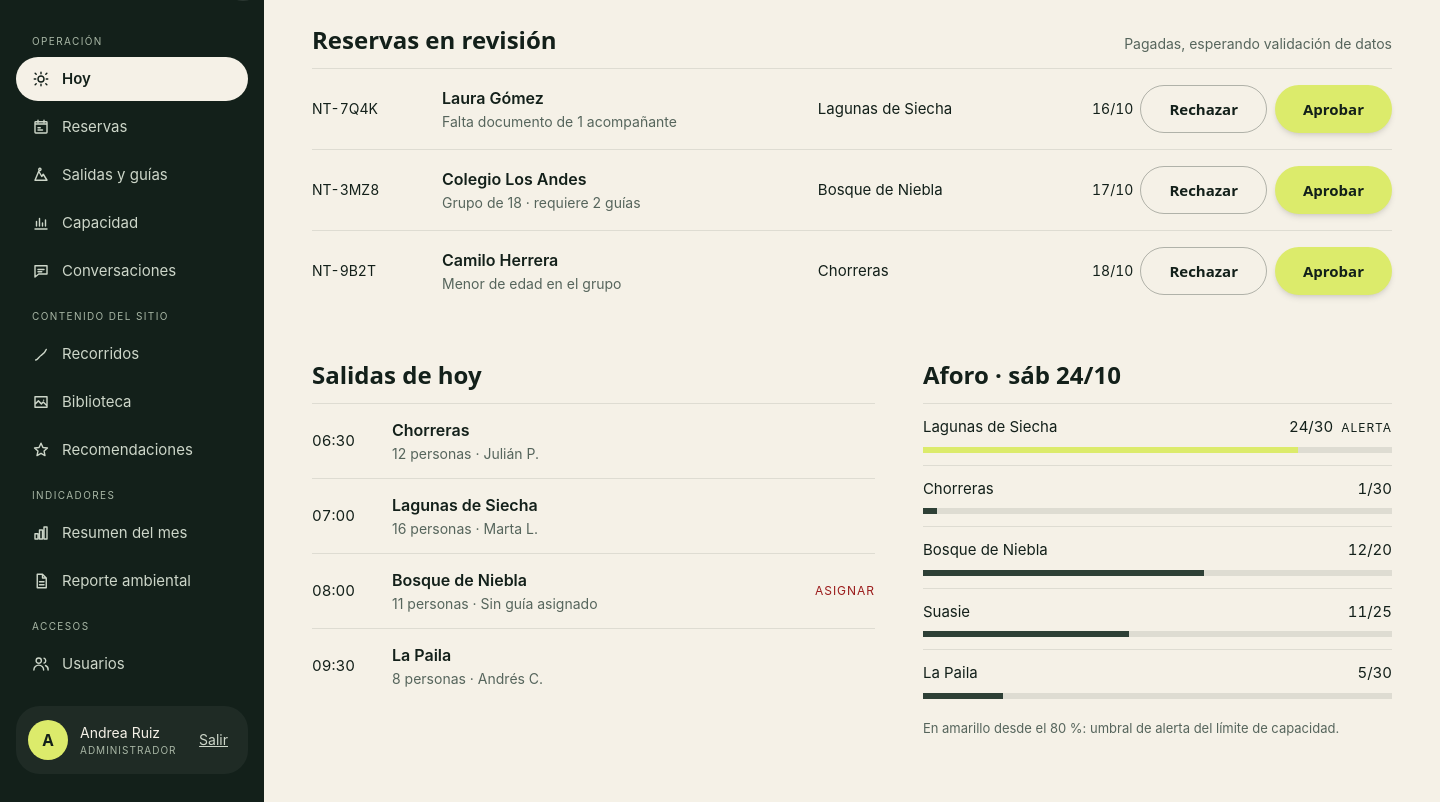
Test case: sesión del equipo › salir revoca el token en el servidor antes de olvidar la sesión
The image size is (1440, 802).
(page scrolled)
Click the button "Salir".
click(214, 740)  # box [191,718,236,762]
(page scrolled)
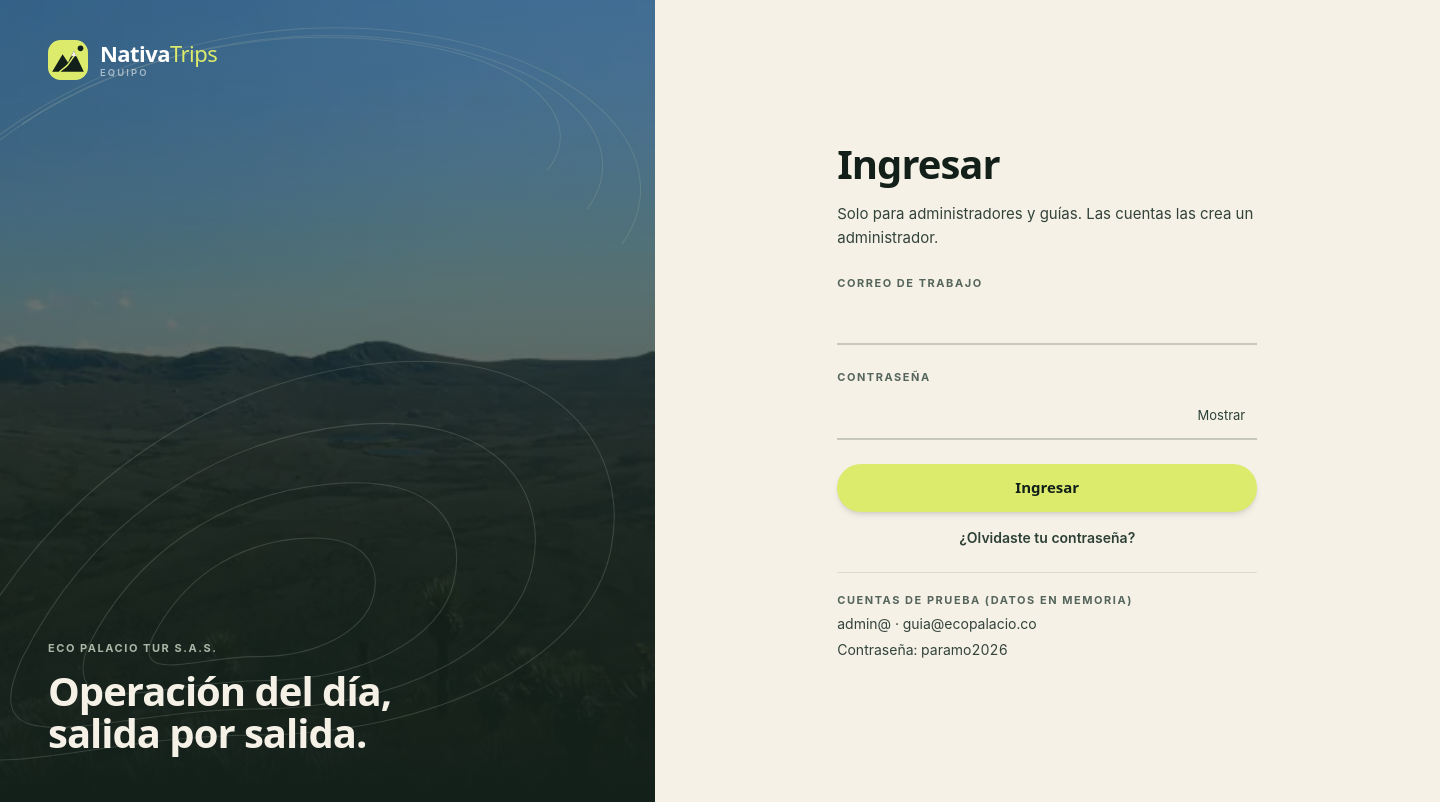
Check: the heading "Ingresar" is shown, box [837,136,1000,191]
